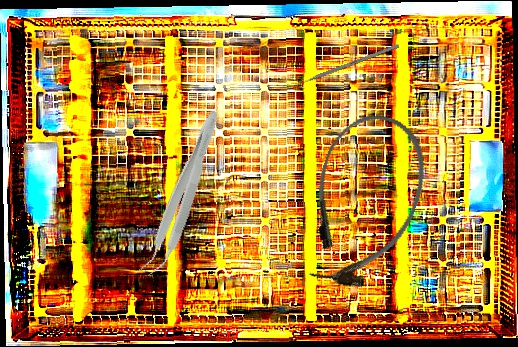Cannula: (287, 101, 442, 302)
Pusher: (286, 43, 400, 91)
Tissue Forceps: (137, 105, 226, 282)
